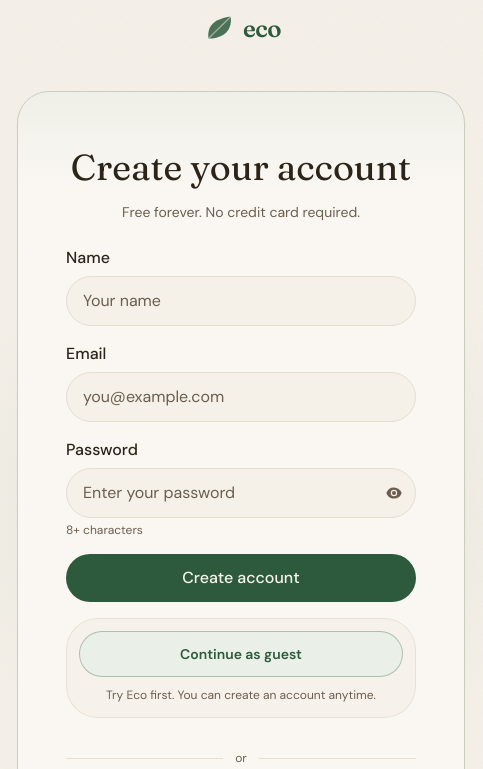
SignUpPage › renders inline validation errors for blank submits
The width and height of the screenshot is (483, 769).
Click the button "Create account" at (241, 578), box [66,554,416,602]
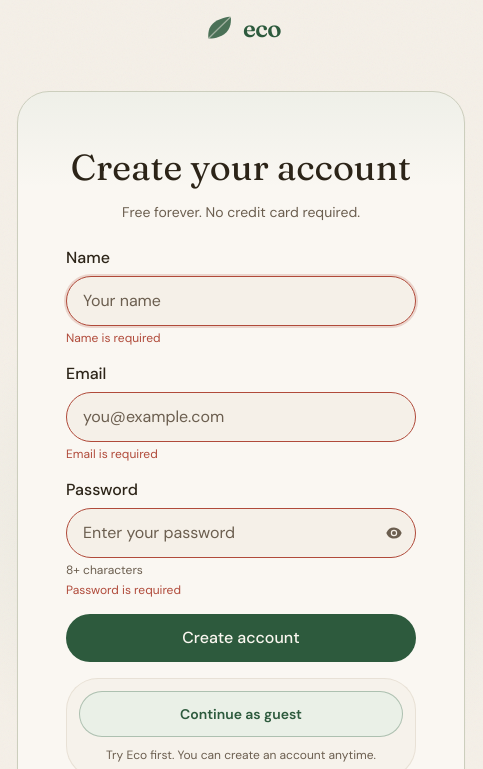
Result: the text "Name is required" is shown at [66,330,160,346]
Result: the text "Email is required" is shown at [66,446,158,462]
Result: the text "Password is required" is shown at [66,582,181,598]
